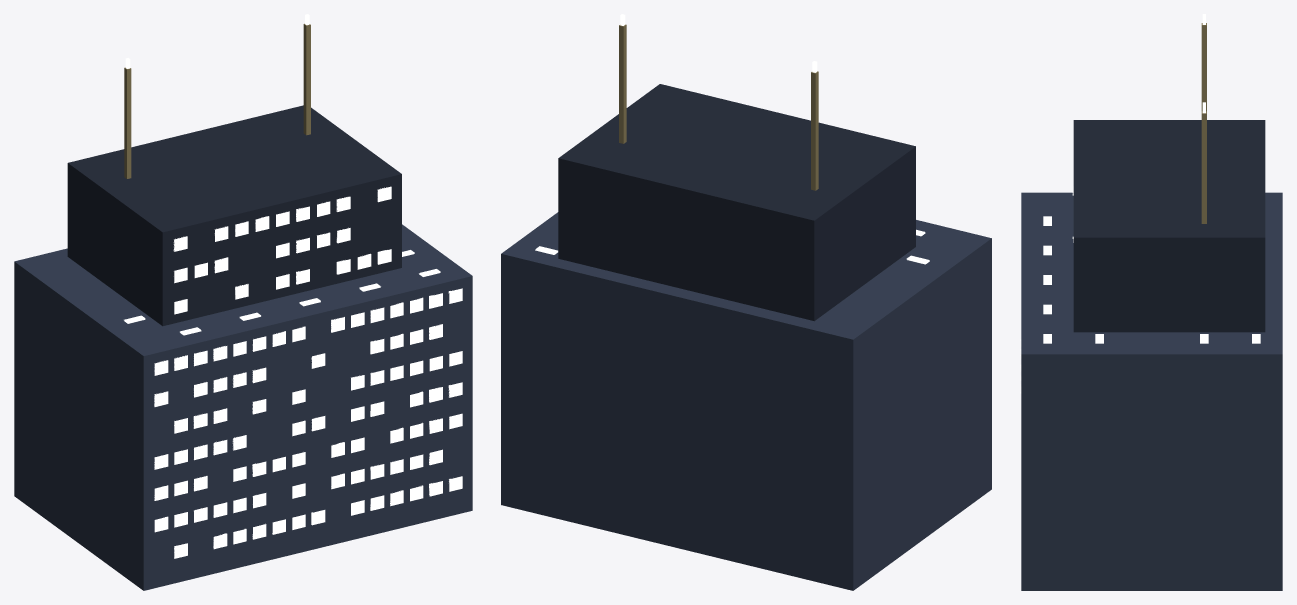
The model's file is gl_tower_lod.glb.
3 renders of one model, left to right at view 1: azimuth 30°, elevation 25°; view 2: azimuth 150°, elevation 25°; view 3: azimuth 270°, elevation 25°, orthographic. The views are drawn at different scales.
Parts seen in each view (by area): view 1: gl_tower_lod_body, gl_tower_lod_lit_emit; view 2: gl_tower_lod_body; view 3: gl_tower_lod_body, gl_tower_lod_lit_emit.
Boxes of the visible parts, box(x1,y1,x2,y2) form: gl_tower_lod_body: box(14, 23, 472, 590); gl_tower_lod_lit_emit: box(124, 14, 462, 558); gl_tower_lod_body: box(501, 24, 991, 590); gl_tower_lod_body: box(1021, 23, 1282, 590); gl_tower_lod_lit_emit: box(1020, 14, 1260, 393).
Size of the model in its own units: 44 by 57.2 by 30.12.
